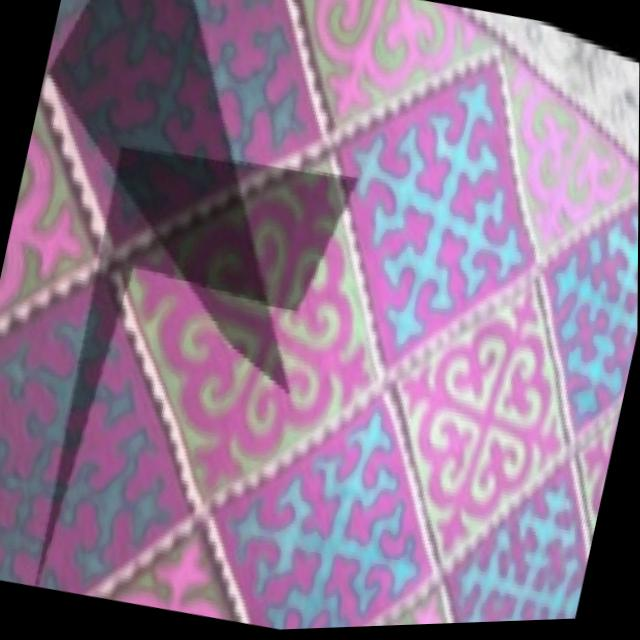Unity: (128, 159, 383, 498), (391, 275, 562, 560), (496, 35, 639, 251), (309, 0, 489, 121)
